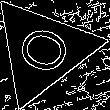O_E: (9, 21, 76, 79)
